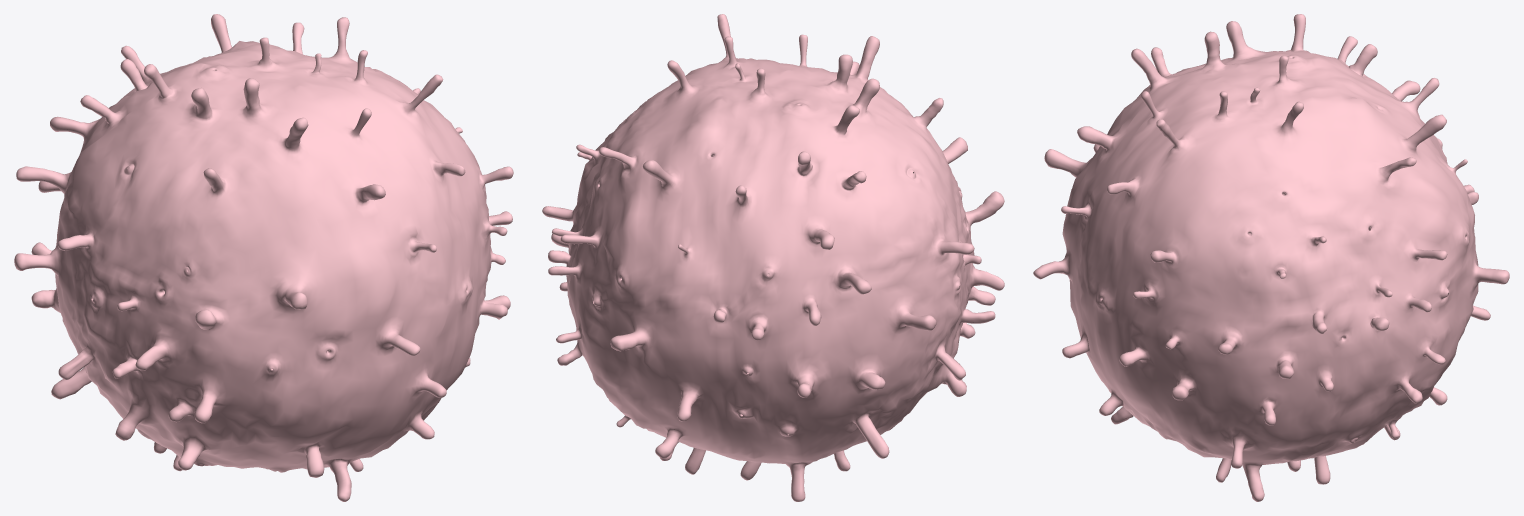
Rendered from Cell_Memrane.fbx.
3 renders of one model, left to right at view 1: azimuth 30°, elevation 25°; view 2: azimuth 150°, elevation 25°; view 3: azimuth 270°, elevation 25°, orthographic. The views are drawn at different scales.
Visible parts, largest first — view 1: Cell_Membrane; view 2: Cell_Membrane; view 3: Cell_Membrane.
Part boxes in pixels (x1=…): Cell_Membrane: x1=14, y1=14, x2=513, y2=501; Cell_Membrane: x1=542, y1=14, x2=1004, y2=501; Cell_Membrane: x1=1033, y1=14, x2=1509, y2=501.
Size of the model in its own units: 4337 by 4124 by 4333.
